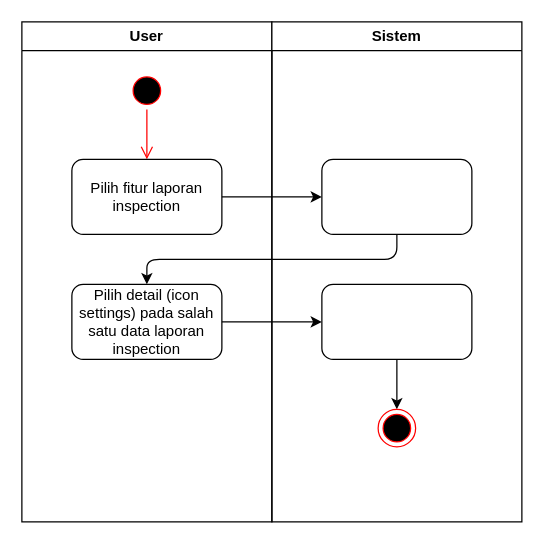
Some shapes in this 544 by 544 pixel diagram are drawn without their labels. Here are the shapes that lost their labels. From the top down, the centre of each, then its label:
(x=396, y=196): Menampilkan halaman laporan inspection
(x=396, y=321): Menampilkan halaman eksternal inspection
